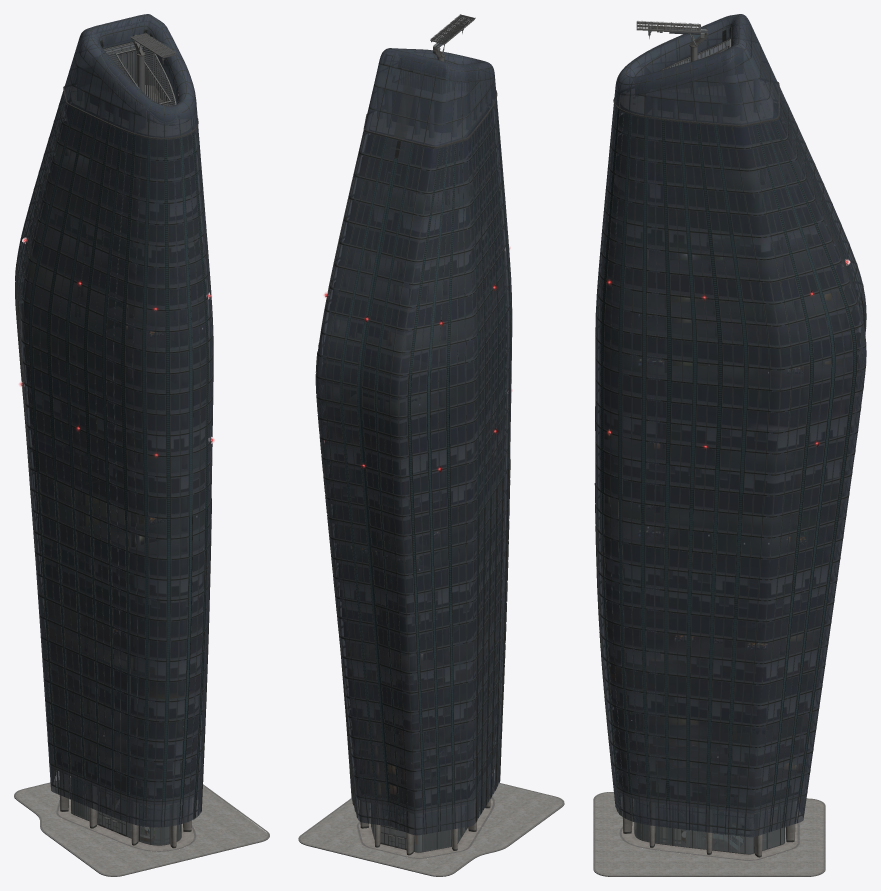
The model's file is skyline.glb.
3 views of the same model, side by side, from view 1: azimuth 30°, elevation 25°; view 2: azimuth 150°, elevation 25°; view 3: azimuth 270°, elevation 25° (orthographic). The views are drawn at different scales.
Parts seen in each view (by area): view 1: Glass_Generic_Glass_Generic_0, Building_Facade_Building_Facade_0, Interior_Top_Interior_Top_0, Glass_Generic_More_Opaque_Glass_Generic_More_Opaque_0, Sidewalk_02_Sidewalk_02_0, Interior_Blinds_Interior_Blinds_0, Top_Piece_Top_Piece_0, Sidewalk_01_Sidewalk_01_0, Concrete_Pillar_Concrete_Pillar_0, Glass_Lobby_Glass_Lobby_0, Building_Maintenance_Unit_Building_Maintenance_Unit_0, Lobby_Curtains_Lobby_Curtains_0; view 2: Glass_Generic_Glass_Generic_0, Building_Facade_Building_Facade_0, Interior_Top_Interior_Top_0, Glass_Generic_More_Opaque_Glass_Generic_More_Opaque_0, Sidewalk_02_Sidewalk_02_0, Interior_Blinds_Interior_Blinds_0, Top_Piece_Top_Piece_0, Sidewalk_01_Sidewalk_01_0, Concrete_Pillar_Concrete_Pillar_0, Glass_Lobby_Glass_Lobby_0, Building_Maintenance_Unit_Building_Maintenance_Unit_0, Lobby_Curtains_Lobby_Curtains_0; view 3: Glass_Generic_Glass_Generic_0, Building_Facade_Building_Facade_0, Interior_Top_Interior_Top_0, Glass_Generic_More_Opaque_Glass_Generic_More_Opaque_0, Interior_Blinds_Interior_Blinds_0, Sidewalk_02_Sidewalk_02_0, Top_Piece_Top_Piece_0, Sidewalk_01_Sidewalk_01_0, Glass_Lobby_Glass_Lobby_0, Concrete_Pillar_Concrete_Pillar_0, Building_Maintenance_Unit_Building_Maintenance_Unit_0, Lobby_Curtains_Lobby_Curtains_0 (+2 smaller).
Boxes of the visible parts, x1,y1,x2,y2 form: Glass_Generic_Glass_Generic_0: (15, 91, 213, 827); Building_Facade_Building_Facade_0: (15, 14, 213, 845); Interior_Top_Interior_Top_0: (21, 105, 208, 798); Glass_Generic_More_Opaque_Glass_Generic_More_Opaque_0: (64, 14, 197, 137); Sidewalk_02_Sidewalk_02_0: (16, 779, 267, 875); Interior_Blinds_Interior_Blinds_0: (29, 157, 205, 795); Top_Piece_Top_Piece_0: (70, 42, 195, 135); Sidewalk_01_Sidewalk_01_0: (14, 780, 269, 876); Concrete_Pillar_Concrete_Pillar_0: (59, 772, 191, 848); Glass_Lobby_Glass_Lobby_0: (71, 787, 181, 844); Building_Maintenance_Unit_Building_Maintenance_Unit_0: (130, 32, 176, 93); Lobby_Curtains_Lobby_Curtains_0: (73, 790, 179, 844); Glass_Generic_Glass_Generic_0: (316, 100, 512, 835); Building_Facade_Building_Facade_0: (315, 48, 512, 852); Interior_Top_Interior_Top_0: (321, 108, 506, 807); Glass_Generic_More_Opaque_Glass_Generic_More_Opaque_0: (364, 48, 496, 146); Sidewalk_02_Sidewalk_02_0: (300, 783, 562, 875); Interior_Blinds_Interior_Blinds_0: (326, 207, 502, 803); Top_Piece_Top_Piece_0: (370, 71, 494, 144); Sidewalk_01_Sidewalk_01_0: (298, 783, 564, 876); Concrete_Pillar_Concrete_Pillar_0: (360, 782, 490, 855); Glass_Lobby_Glass_Lobby_0: (371, 804, 466, 852); Building_Maintenance_Unit_Building_Maintenance_Unit_0: (430, 14, 475, 61); Lobby_Curtains_Lobby_Curtains_0: (417, 812, 459, 851); Glass_Generic_Glass_Generic_0: (595, 87, 866, 837); Building_Facade_Building_Facade_0: (594, 14, 866, 854); Interior_Top_Interior_Top_0: (600, 104, 860, 807); Glass_Generic_More_Opaque_Glass_Generic_More_Opaque_0: (614, 14, 778, 124); Interior_Blinds_Interior_Blinds_0: (604, 175, 854, 802); Sidewalk_02_Sidewalk_02_0: (595, 792, 823, 875); Top_Piece_Top_Piece_0: (620, 38, 772, 122); Sidewalk_01_Sidewalk_01_0: (593, 792, 825, 876); Glass_Lobby_Glass_Lobby_0: (634, 800, 784, 853); Concrete_Pillar_Concrete_Pillar_0: (622, 795, 795, 857); Building_Maintenance_Unit_Building_Maintenance_Unit_0: (636, 21, 707, 93); Lobby_Curtains_Lobby_Curtains_0: (637, 811, 739, 852).
Size of the model in its own units: 37.24 by 167 by 50.91.
20 materials, 18 textured.
